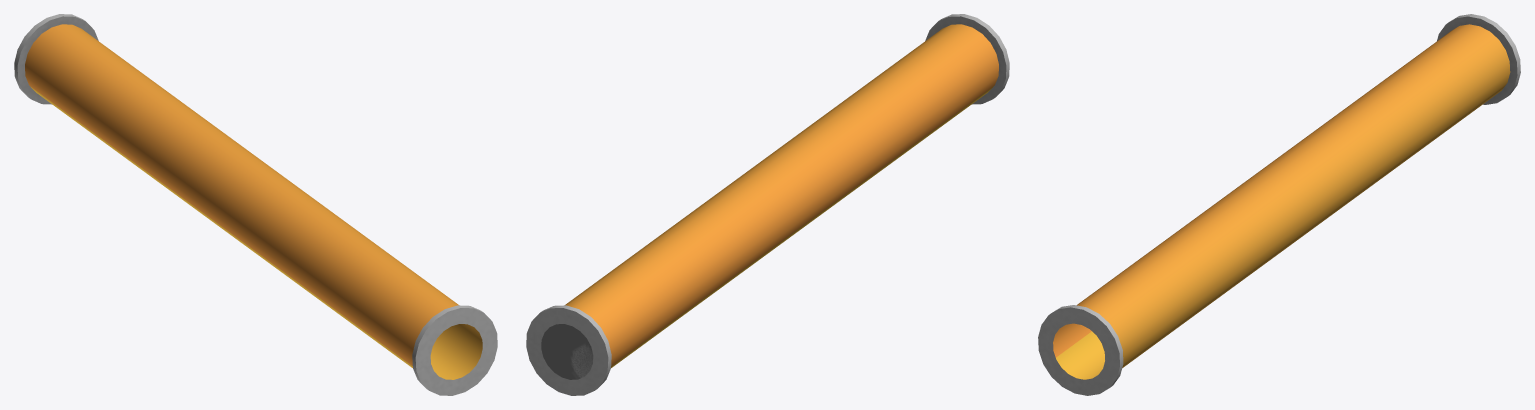
The picture shows the model from 3 angles, left to right: view 1: azimuth 30°, elevation 25°; view 2: azimuth 150°, elevation 25°; view 3: azimuth 330°, elevation 25°; orthographic projection.
Parts seen in each view (by area): view 1: Tube_Line_4; view 2: Tube_Line_4; view 3: Tube_Line_4.
Boxes of the visible parts, left/top/right/bottom form: Tube_Line_4: left=14, top=14, right=497, bottom=395; Tube_Line_4: left=526, top=14, right=1009, bottom=395; Tube_Line_4: left=1038, top=14, right=1520, bottom=395.
Size of the model in its own units: 6.79 by 6.79 by 57.39.
